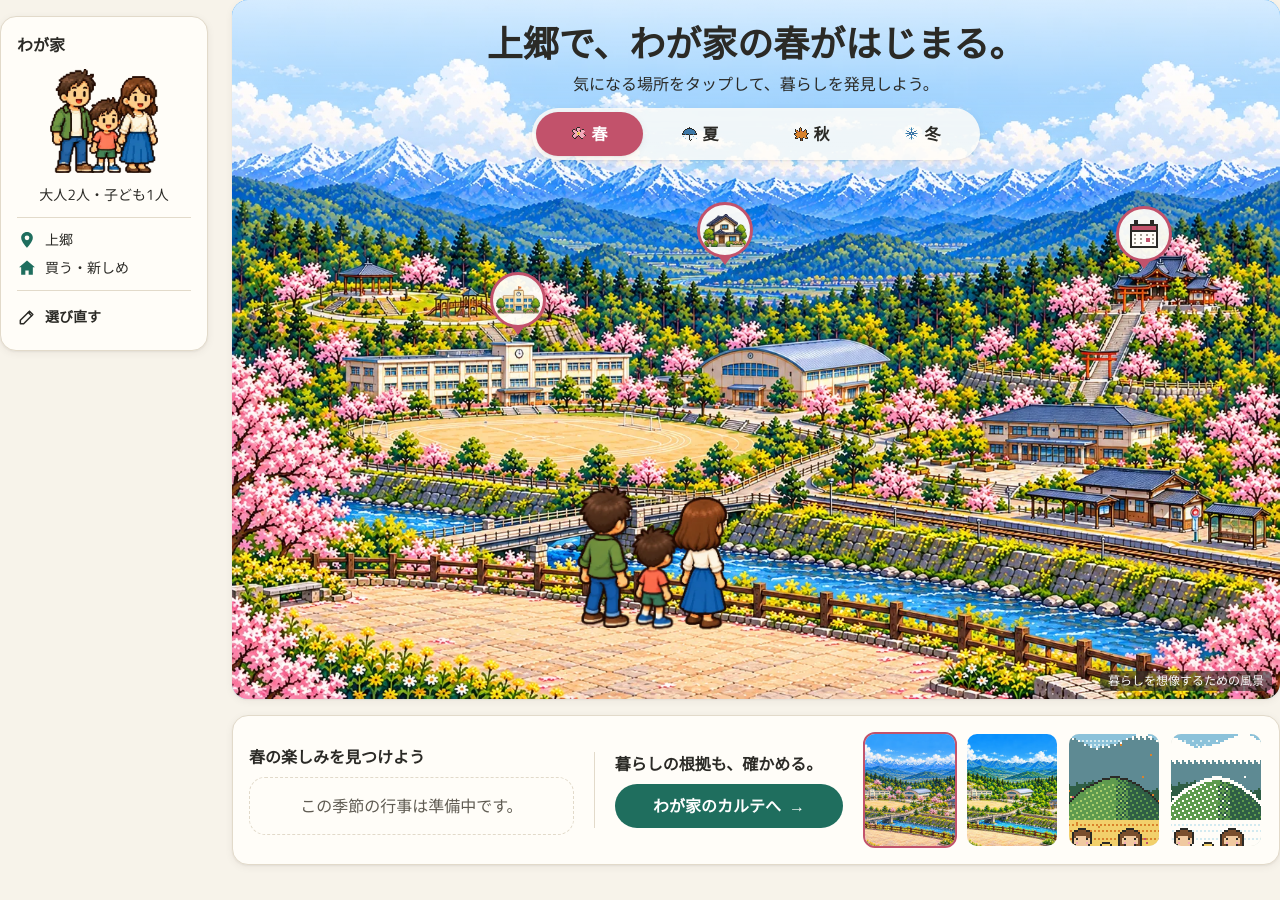
Test: KurashiView：上郷・春の風景とピン（028） › 地域の行事のピン：その季節の行事がまだなければ「準備中」と出す
What coordinates should you click on to do the following:
click the button named "地域の行事"
I would click on:
 (1144, 238)
Its box is [1116,206,1172,269].
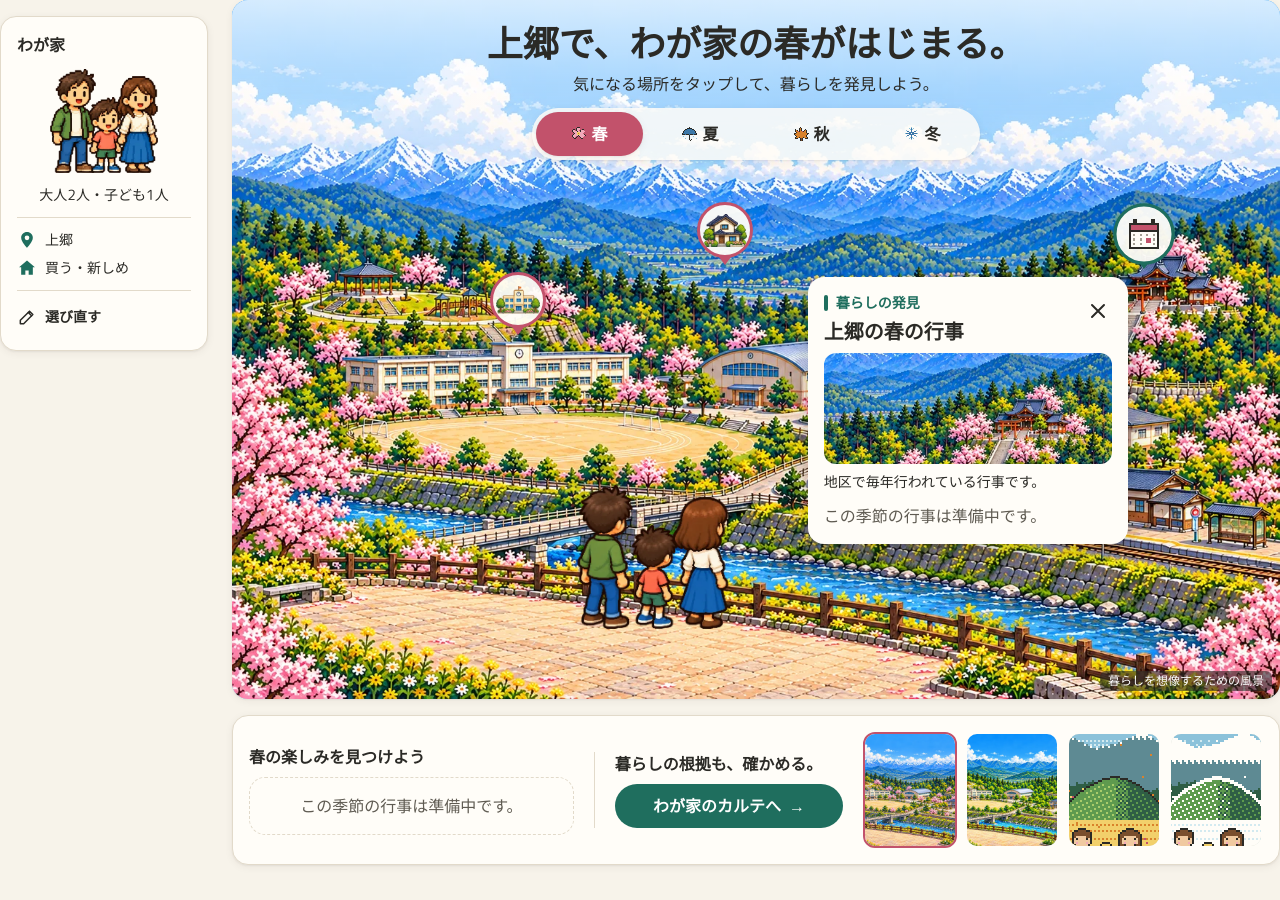
Expected: the dialog "上郷の春の行事" shows "この季節の行事は準備中です。", [824,505,1046,527]
